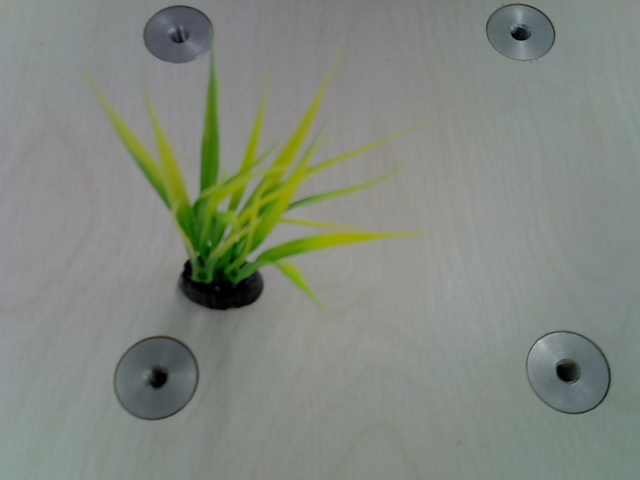해바라기새싹: (80, 42, 415, 314)
